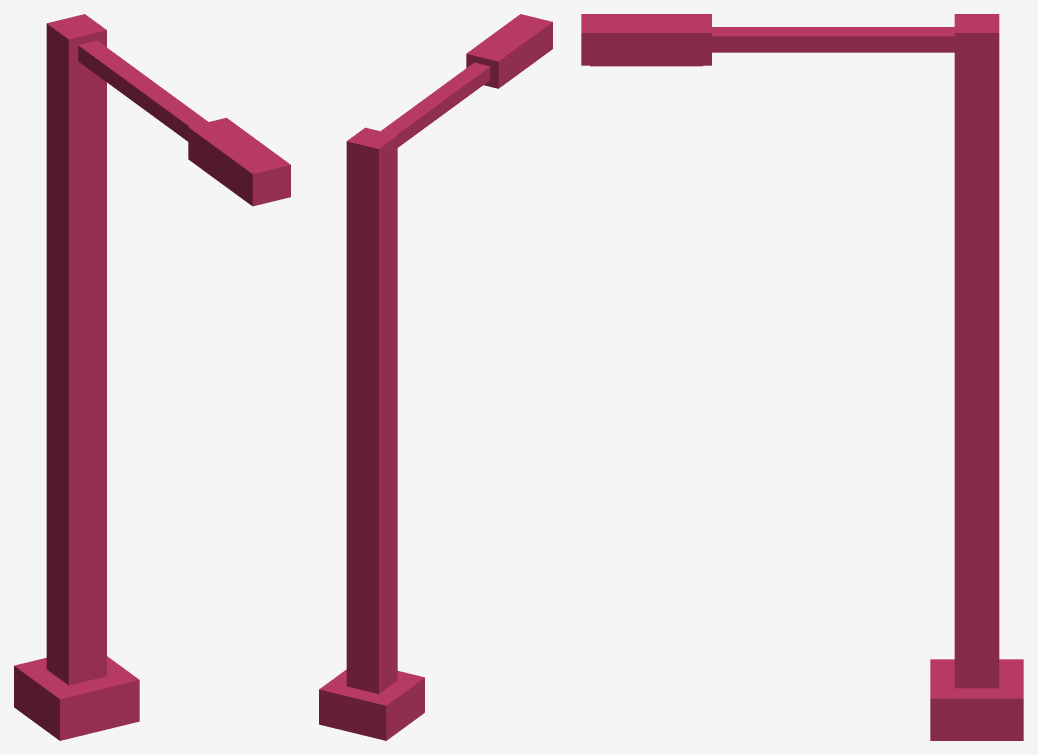
File: Lamp post unwrap.fbx
The picture shows the model from 3 angles, left to right: view 1: azimuth 30°, elevation 25°; view 2: azimuth 150°, elevation 25°; view 3: azimuth 270°, elevation 25°; orthographic projection. The views are drawn at different scales.
Parts seen in each view (by area): view 1: Lamp post; view 2: Lamp post; view 3: Lamp post.
Boxes of the visible parts, <box> form: Lamp post: <box>14,14,290,740</box>; Lamp post: <box>319,14,552,740</box>; Lamp post: <box>581,14,1023,740</box>.
Size of the model in its own units: 40 by 330 by 190.
